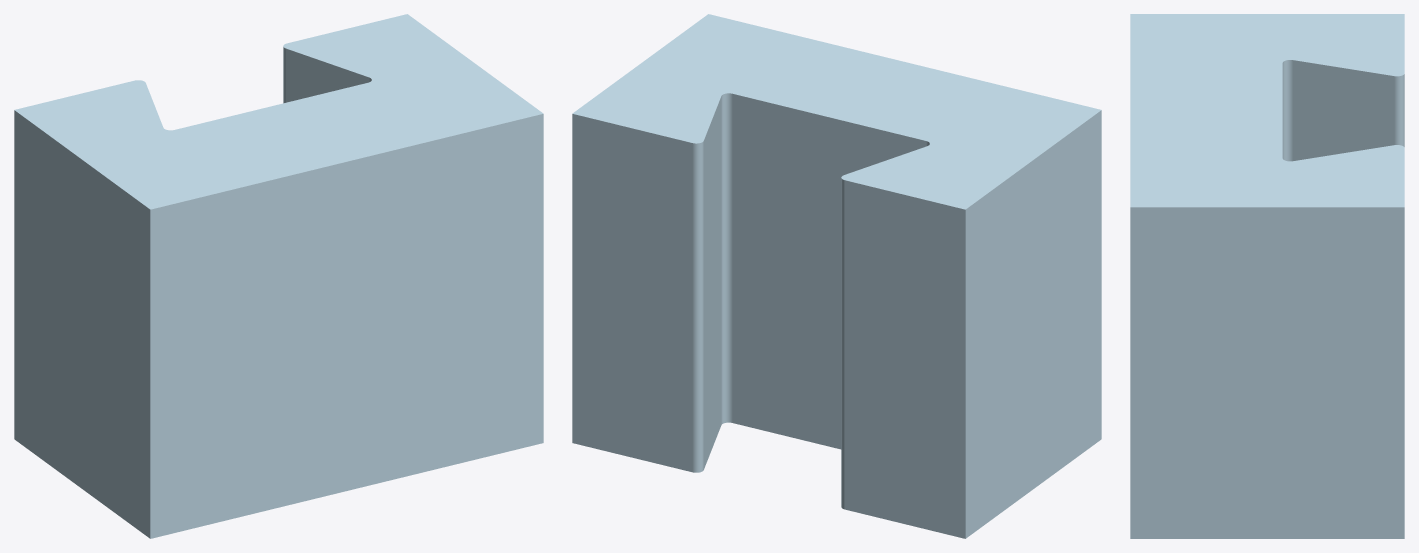
Rendered from Assembly 1 - Part 1.gltf.
3 renders of one model, left to right at view 1: azimuth 30°, elevation 25°; view 2: azimuth 150°, elevation 25°; view 3: azimuth 270°, elevation 25°, orthographic.
Parts seen in each view (by area): view 1: Part 1; view 2: Part 1; view 3: Part 1.
Part boxes in pixels (x1=…): Part 1: x1=14, y1=14, x2=543, y2=538; Part 1: x1=572, y1=14, x2=1101, y2=538; Part 1: x1=1130, y1=14, x2=1404, y2=538.
Bounding box in the file's own units: 0.03 × 0.024 × 0.018.
